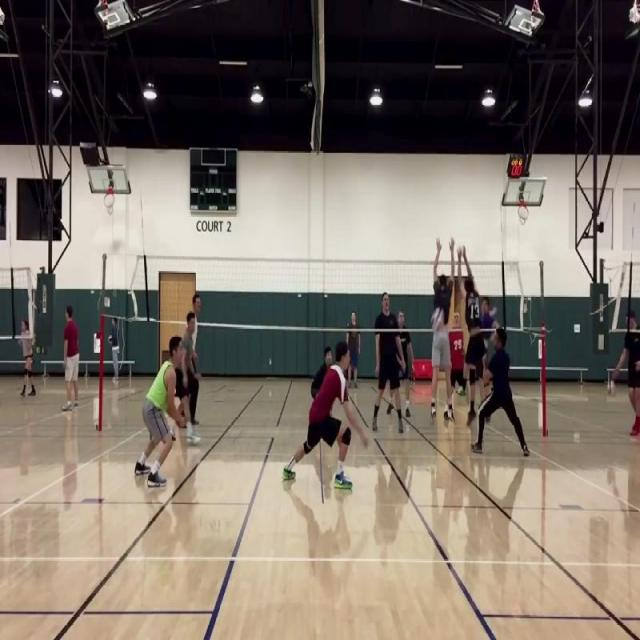volleyball: (431, 313, 442, 330)
